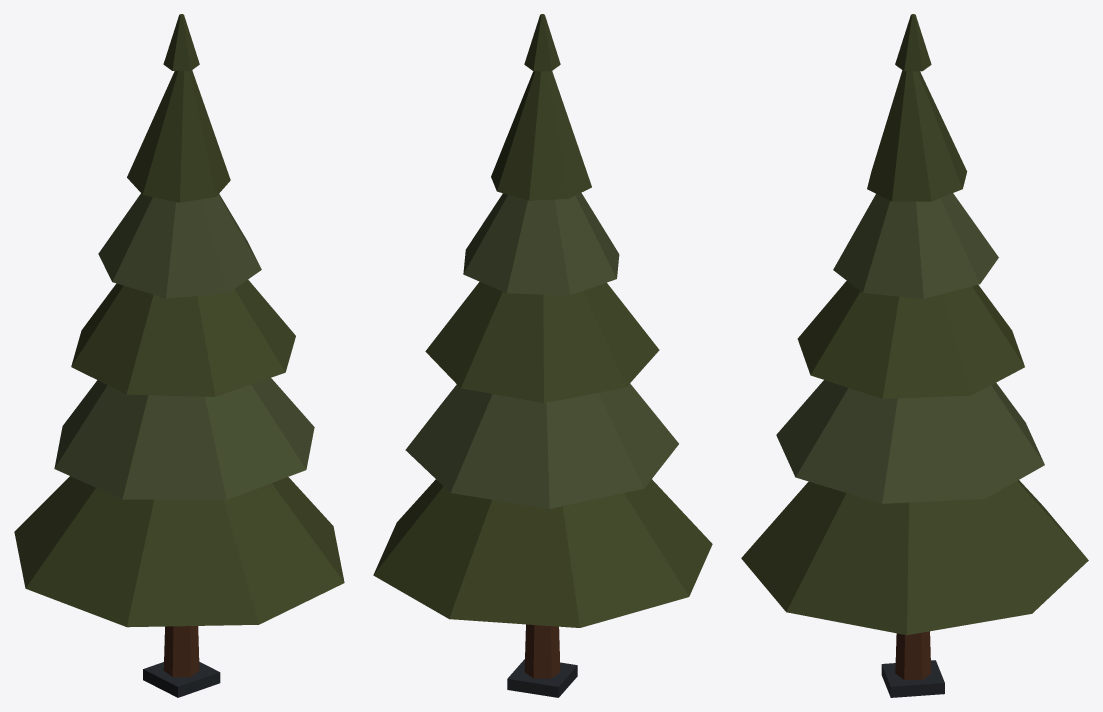
Rendered from env_pine_tall.fbx.
The picture shows the model from 3 angles, left to right: view 1: azimuth 30°, elevation 25°; view 2: azimuth 150°, elevation 25°; view 3: azimuth 270°, elevation 25°; orthographic projection.
Visible parts, largest first — view 1: env_pine_tall; view 2: env_pine_tall; view 3: env_pine_tall.
Boxes of the visible parts, bbox=[...] form: env_pine_tall: bbox=[14, 14, 344, 697]; env_pine_tall: bbox=[373, 14, 712, 697]; env_pine_tall: bbox=[741, 14, 1088, 697].
Bounding box in the file's own units: 1139 × 2420 × 1139.
